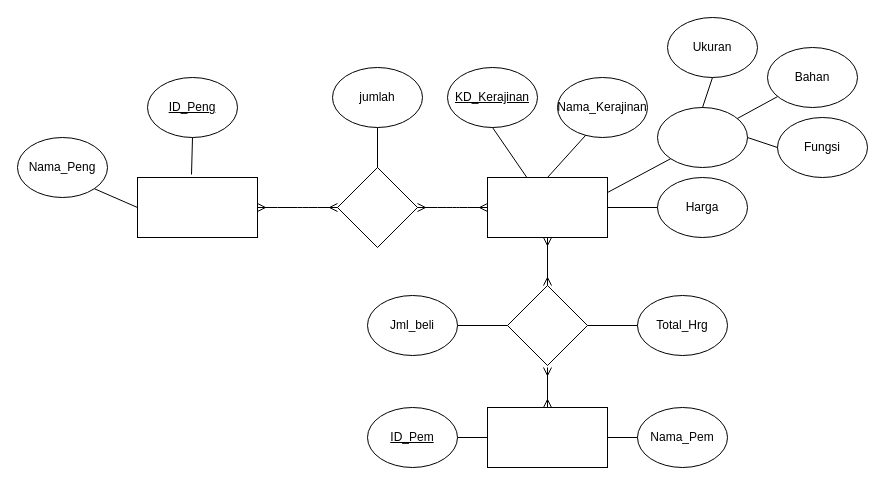
Image size: 885x485. Some labels were removed from this diagram. Here are the shapes that lost their labels. From the top down, the centre of each, then its label:
At (x=702, y=137): "Deskripsi".
At (x=197, y=207): "Pengrajin".
At (x=377, y=207): "Membuat".
At (x=547, y=207): "Kerajinan".
At (x=547, y=325): "Membeli".
At (x=547, y=437): "Pembeli".
